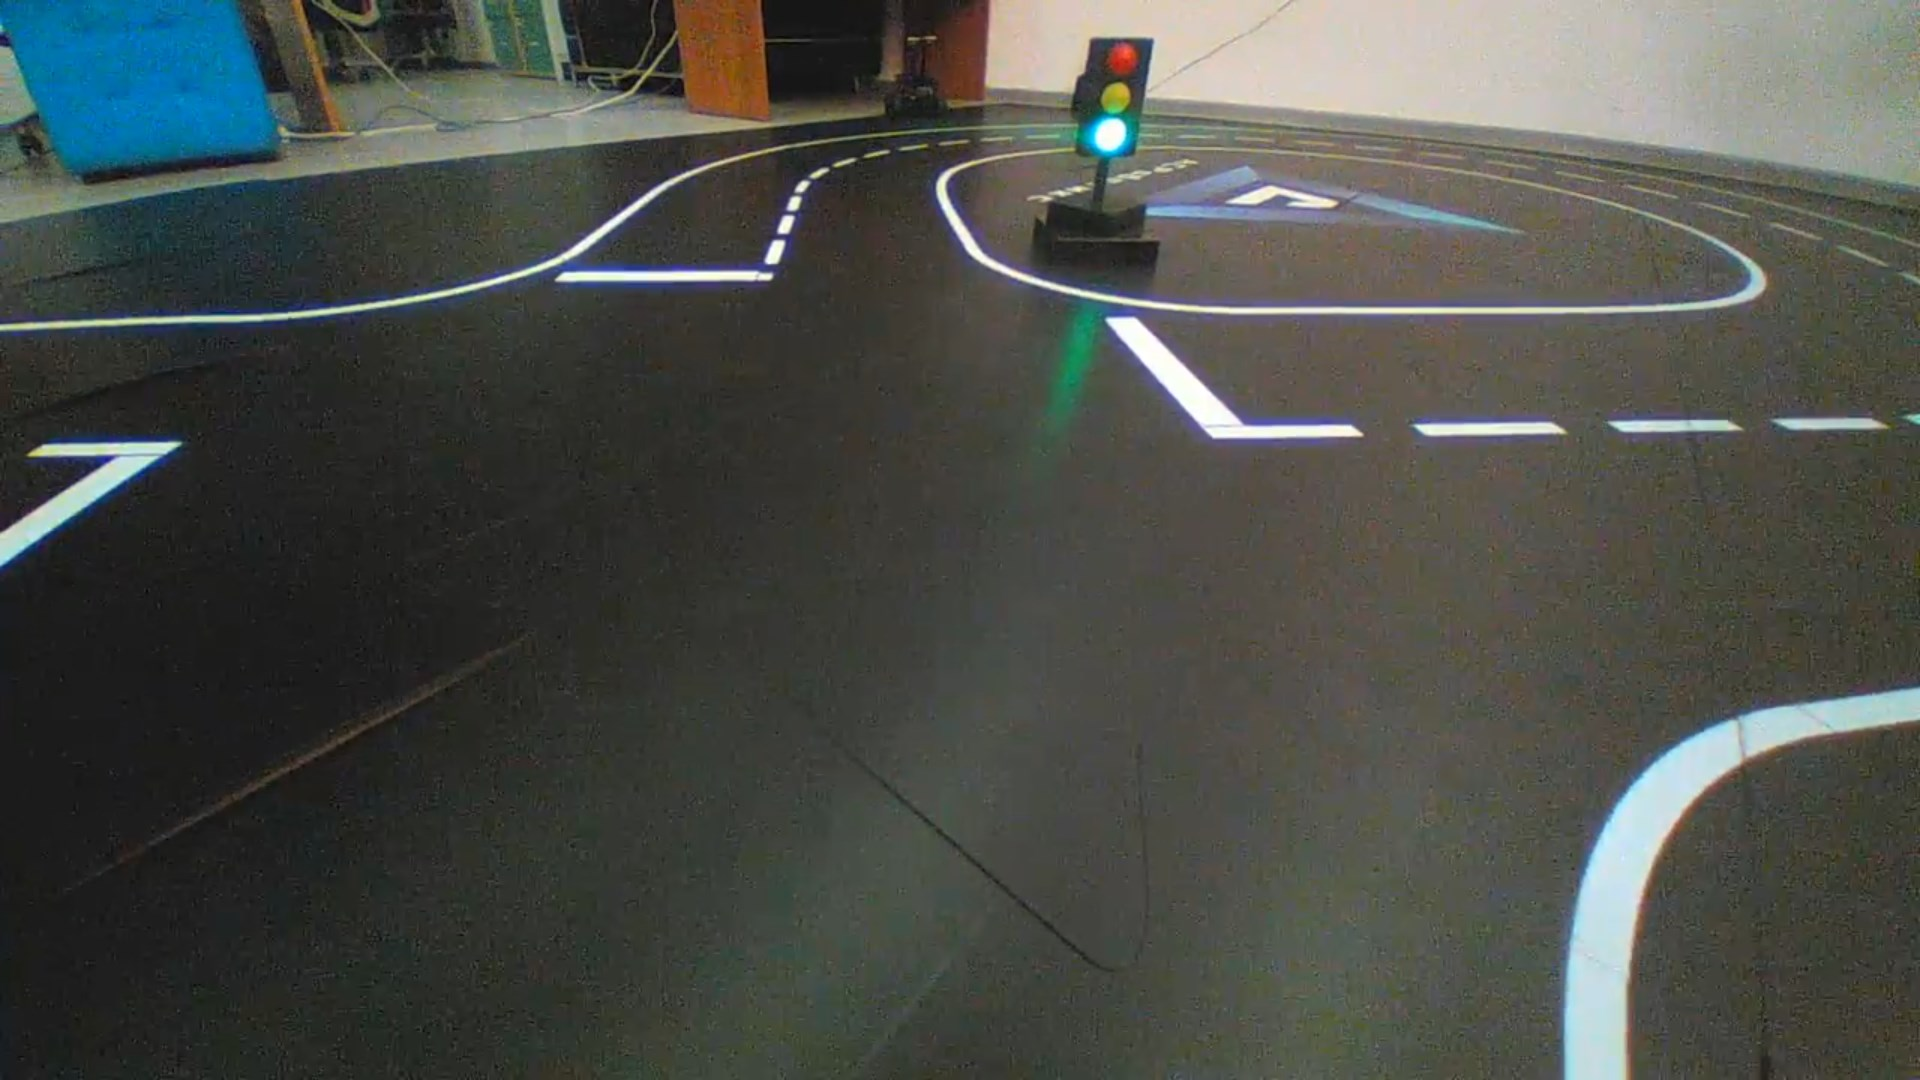trafficlight: (1075, 36, 1154, 158)
